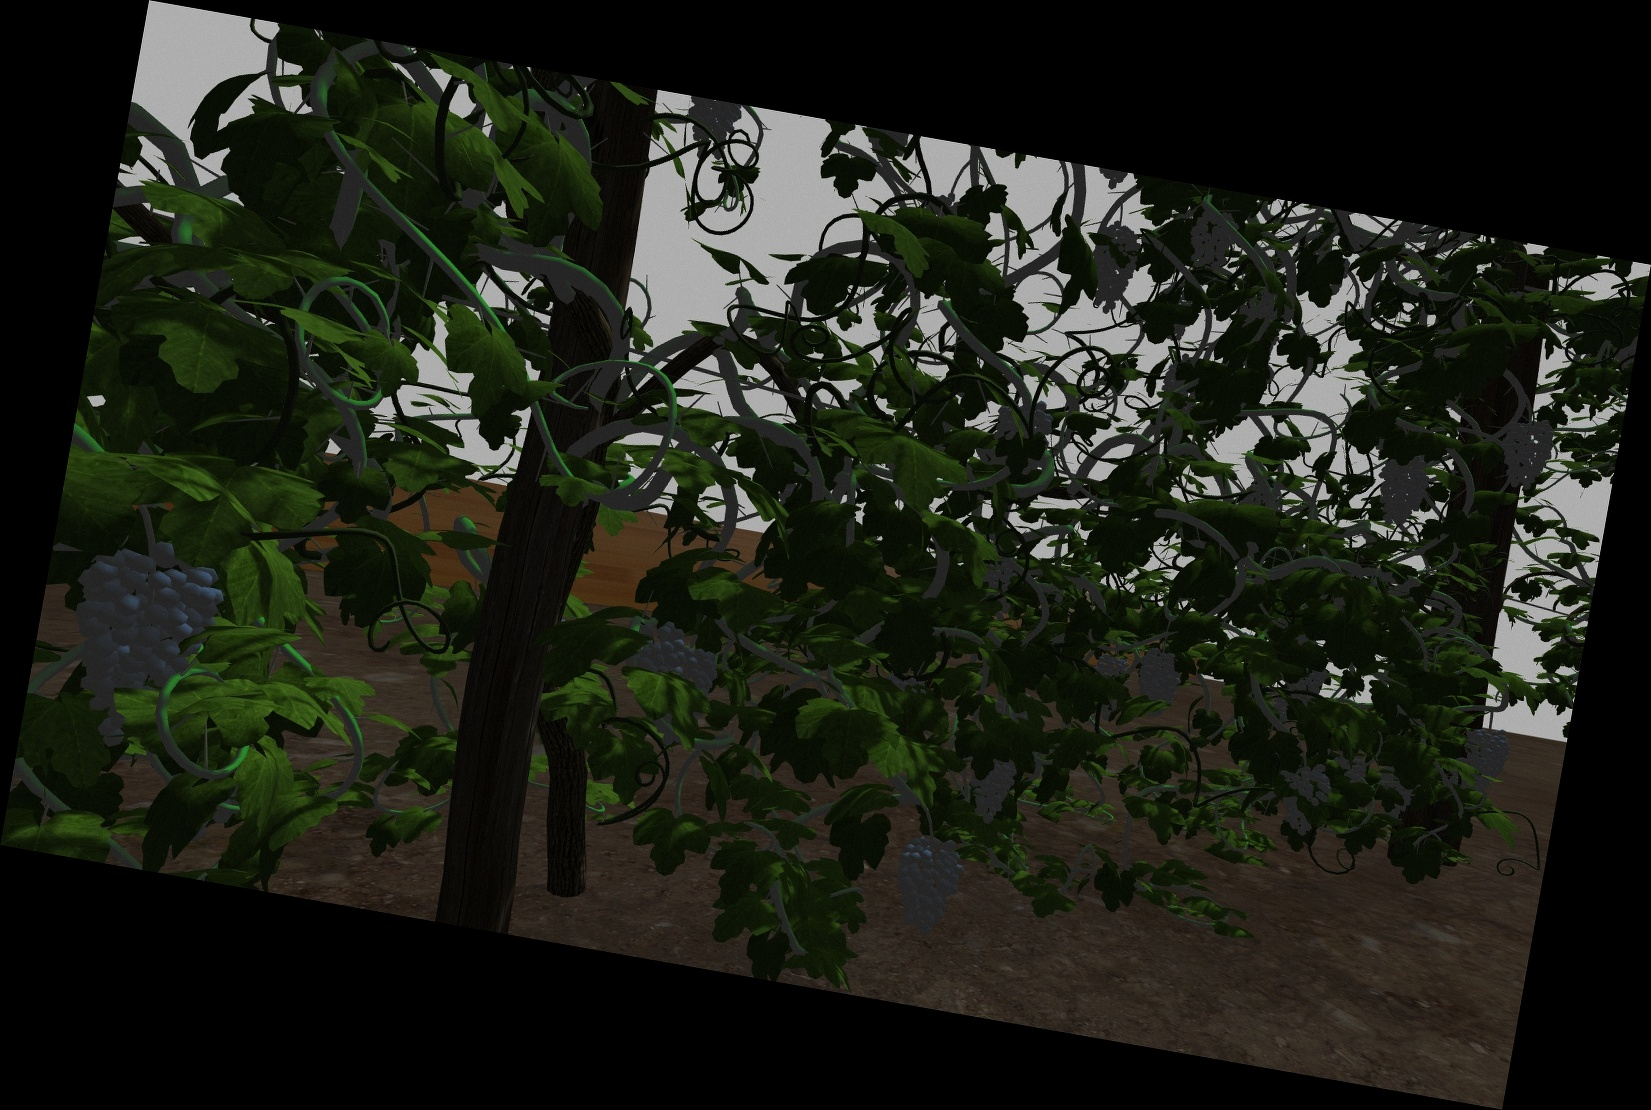grape: (71, 536, 214, 751), (891, 833, 960, 939), (629, 621, 722, 684), (1089, 222, 1138, 311), (1375, 453, 1431, 527), (1499, 417, 1552, 491), (967, 753, 1019, 823), (1190, 208, 1234, 273), (1463, 726, 1511, 776), (1138, 649, 1180, 702), (1279, 761, 1331, 803), (1096, 652, 1130, 679)
